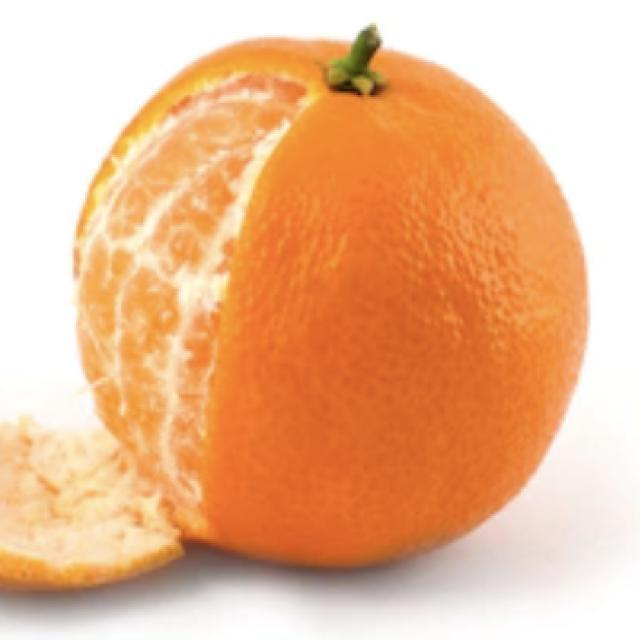Orange: (71, 23, 590, 571)
